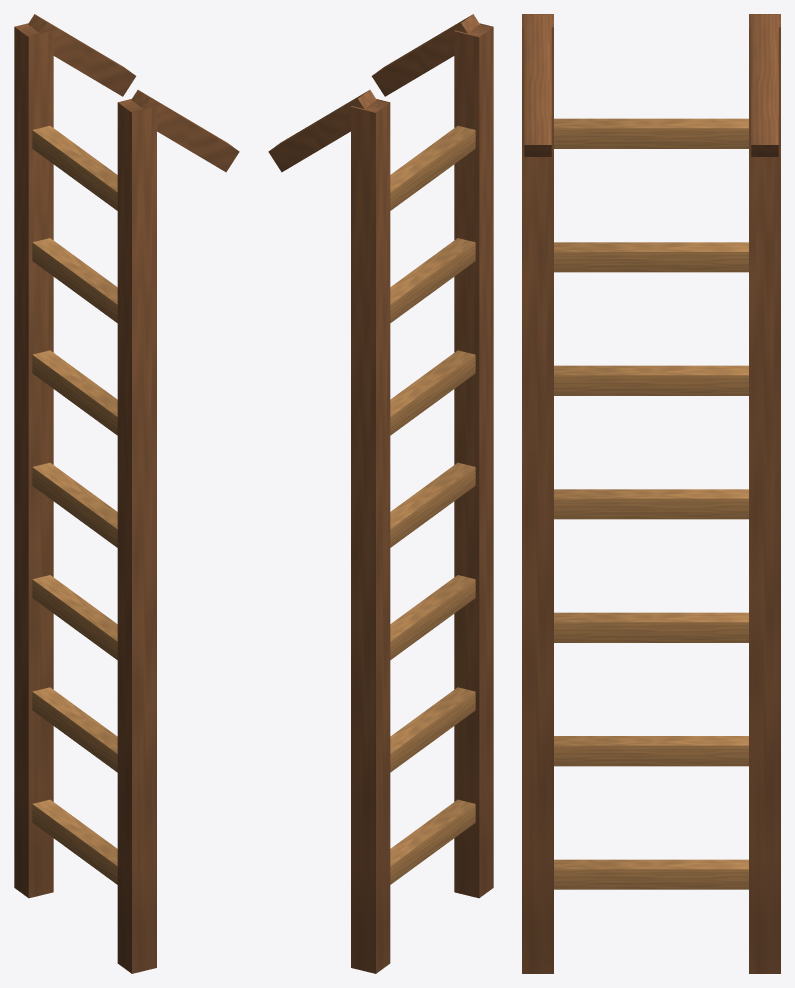
Rendered from dock_ladder_01.glb.
3 renders of one model, left to right at view 1: azimuth 30°, elevation 25°; view 2: azimuth 150°, elevation 25°; view 3: azimuth 270°, elevation 25°, orthographic. The views are drawn at different scales.
Visible parts, largest first — view 1: dock_ladder_01; view 2: dock_ladder_01; view 3: dock_ladder_01.
Boxes of the visible parts, bbox=[...] form: dock_ladder_01: bbox=[14, 14, 239, 973]; dock_ladder_01: bbox=[268, 14, 493, 973]; dock_ladder_01: bbox=[522, 14, 780, 973].
Bounding box in the file's own units: 0.3037 × 2.32 × 0.57.
Materials: 1 (1 with a texture image).
